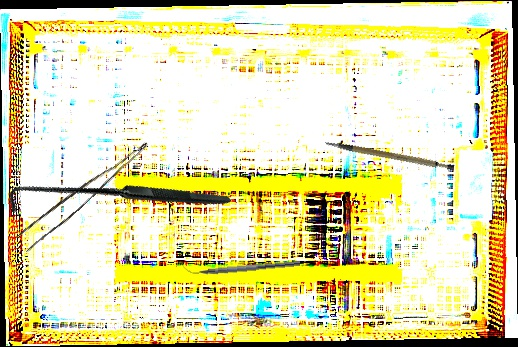Chopper: (182, 252, 301, 279)
Hook Surgical: (1, 85, 233, 317)
Scalpel Handle: (324, 121, 456, 187)
Tissue Forceps: (13, 127, 150, 257)
